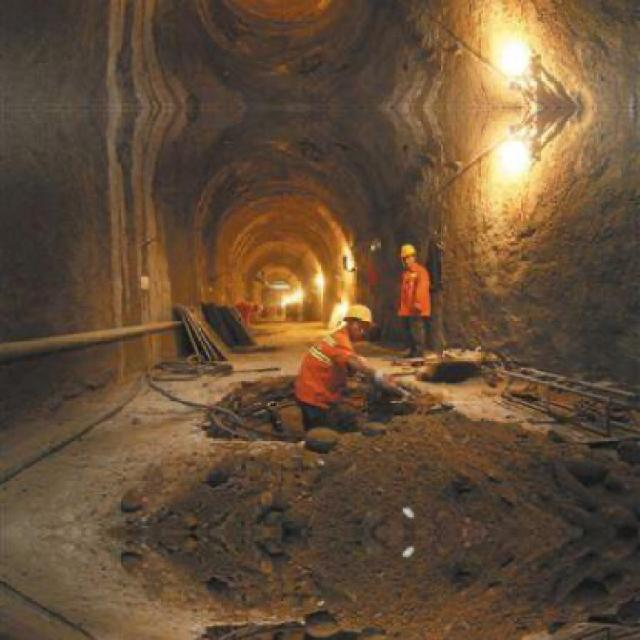helmet: (335, 298, 377, 342), (397, 238, 418, 270)
